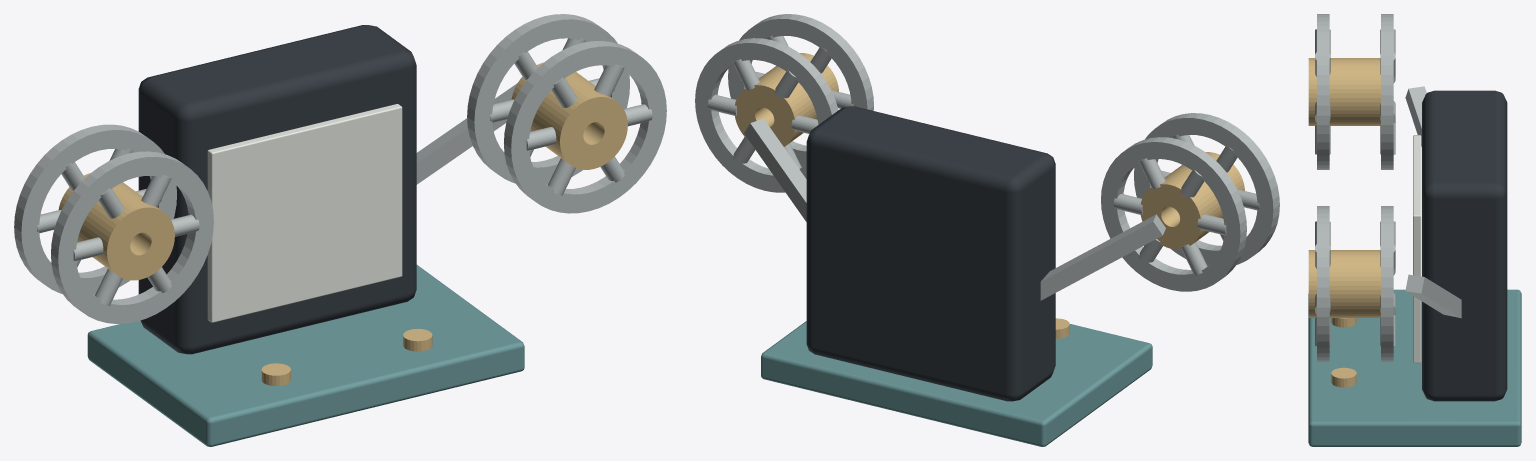
Rendered from abandoned-cinema-and-projection-booth-abandoned-cinema-fa8cfa4f__29711.glb.
3 views of the same model, side by side, from view 1: azimuth 30°, elevation 25°; view 2: azimuth 150°, elevation 25°; view 3: azimuth 270°, elevation 25° (orthographic). The views are drawn at different scales.
Visible parts, largest first — view 1: abandoned-cinema-and-projection-booth-editing-viewer; view 2: abandoned-cinema-and-projection-booth-editing-viewer; view 3: abandoned-cinema-and-projection-booth-editing-viewer.
Boxes of the visible parts, left/top/right/bottom form: abandoned-cinema-and-projection-booth-editing-viewer: left=14, top=14, right=666, bottom=446; abandoned-cinema-and-projection-booth-editing-viewer: left=695, top=14, right=1279, bottom=446; abandoned-cinema-and-projection-booth-editing-viewer: left=1308, top=14, right=1521, bottom=446.
Size of the model in its own units: 0.86 by 0.41 by 0.3.
